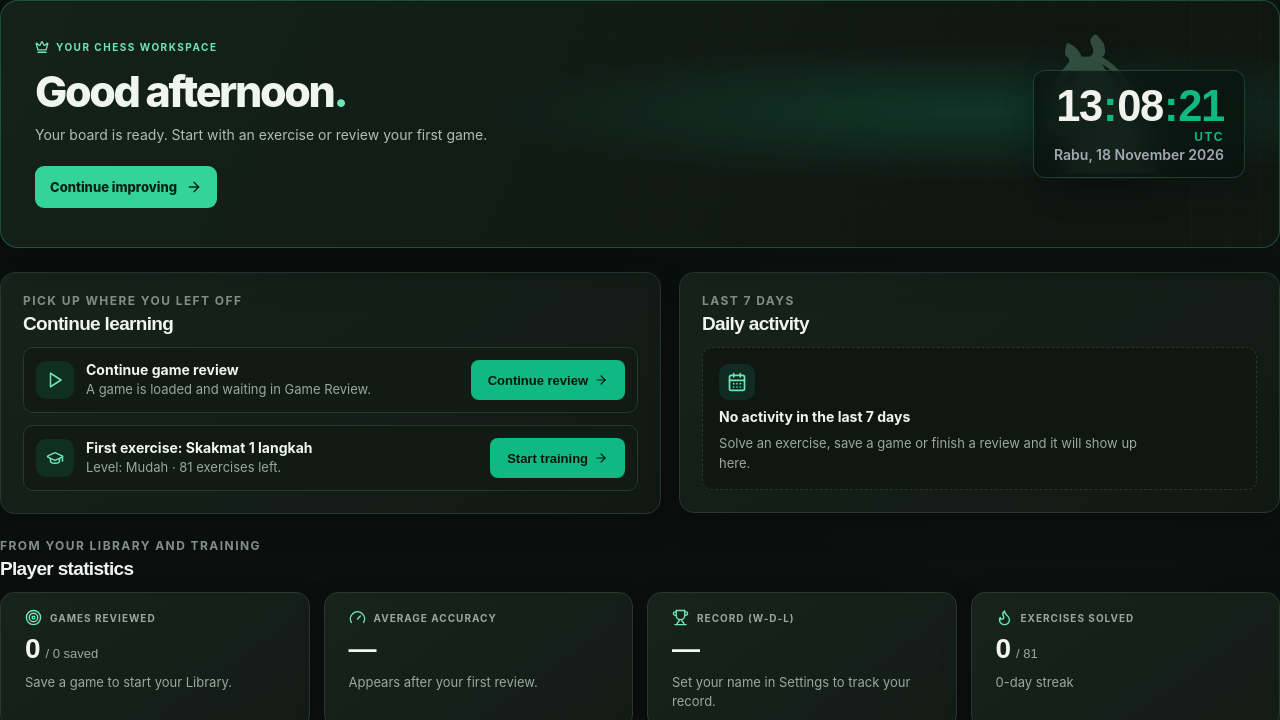
Scenario: Dashboard: Continue learning › continues a game review only when a game is really waiting
This screenshot has width=1280, height=720.
Click the link "Continue review".
click(548, 380)  # box [471,360,625,400]
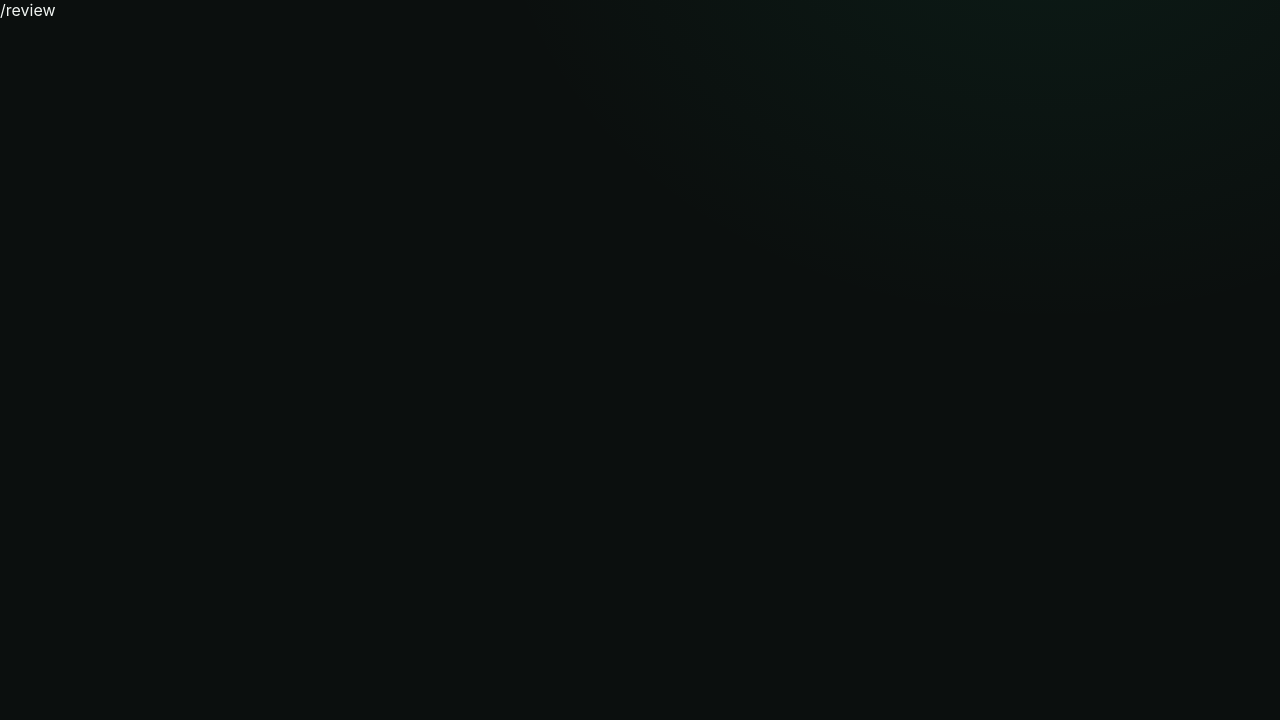
expect the text with test id "location" reads "/review": met, box [0,0,56,20]
